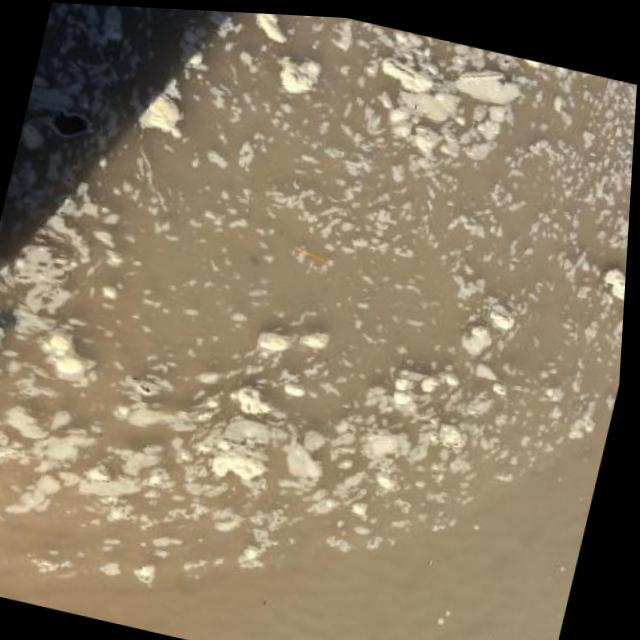plastic: (291, 245, 332, 265)
